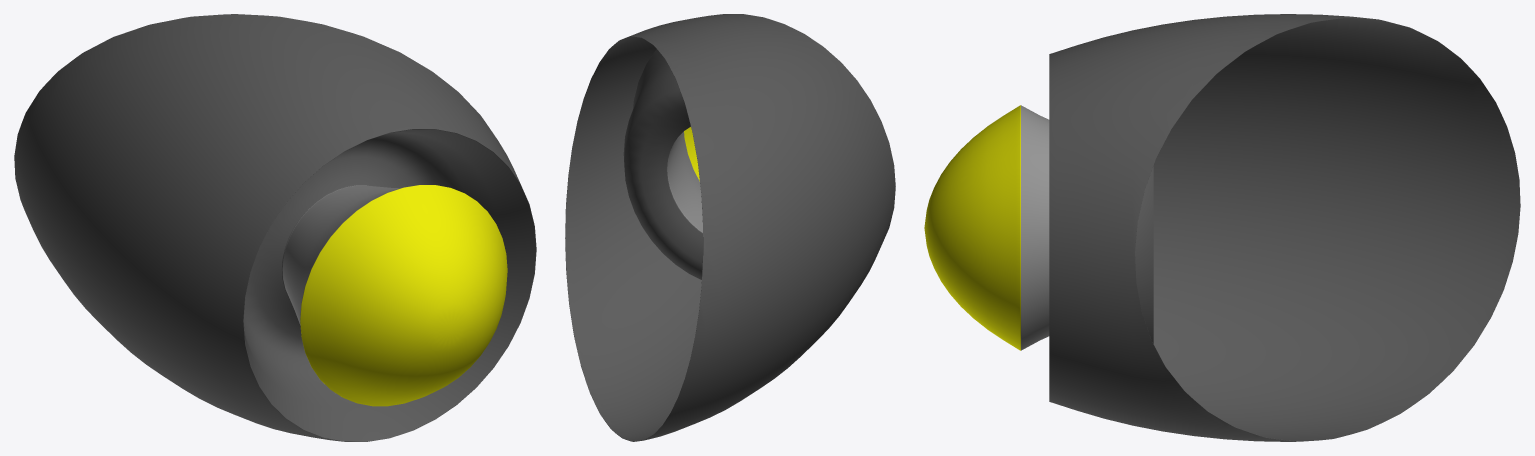
Rendered from ScenicDebris04Broken_01.fbx.
3 renders of one model, left to right at view 1: azimuth 30°, elevation 25°; view 2: azimuth 150°, elevation 25°; view 3: azimuth 270°, elevation 25°, orthographic. The views are drawn at different scales.
Parts seen in each view (by area): view 1: polySurface2; view 2: polySurface2; view 3: polySurface2.
Part boxes in pixels (x1,y1,x2,y2): polySurface2: [14, 14, 536, 441]; polySurface2: [565, 14, 895, 441]; polySurface2: [924, 14, 1520, 441].
Size of the model in its own units: 10.8 by 11.12 by 15.5.
